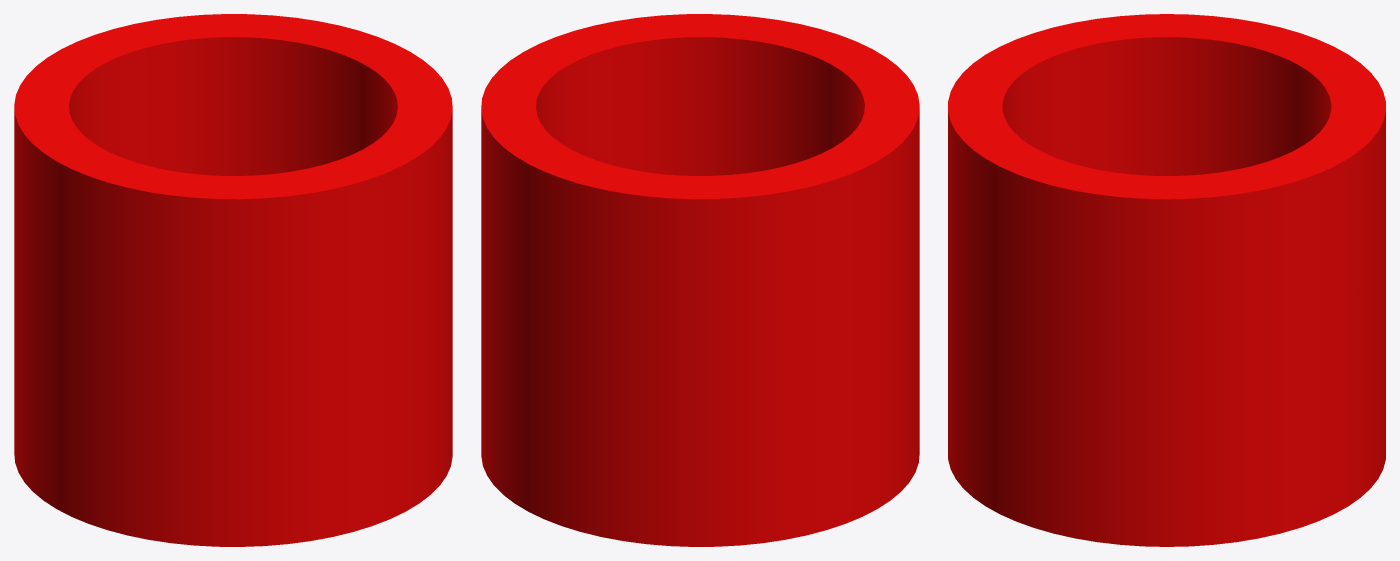
File: Seal1.obj
3 renders of one model, left to right at view 1: azimuth 30°, elevation 25°; view 2: azimuth 150°, elevation 25°; view 3: azimuth 270°, elevation 25°, orthographic.
Parts seen in each view (by area): view 1: mesh2, mesh3, mesh1; view 2: mesh2, mesh3, mesh1; view 3: mesh2, mesh3, mesh1.
Part boxes in pixels (x1=…): mesh2: x1=14, y1=108, x2=452, y2=546; mesh3: x1=69, y1=37, x2=397, y2=175; mesh1: x1=14, y1=14, x2=452, y2=199; mesh2: x1=481, y1=108, x2=919, y2=546; mesh3: x1=536, y1=37, x2=864, y2=175; mesh1: x1=481, y1=14, x2=919, y2=199; mesh2: x1=948, y1=112, x2=1385, y2=546; mesh3: x1=1002, y1=37, x2=1331, y2=175; mesh1: x1=948, y1=14, x2=1385, y2=199.
Size of the model in its own units: 0.04 by 0.035 by 0.0399.
